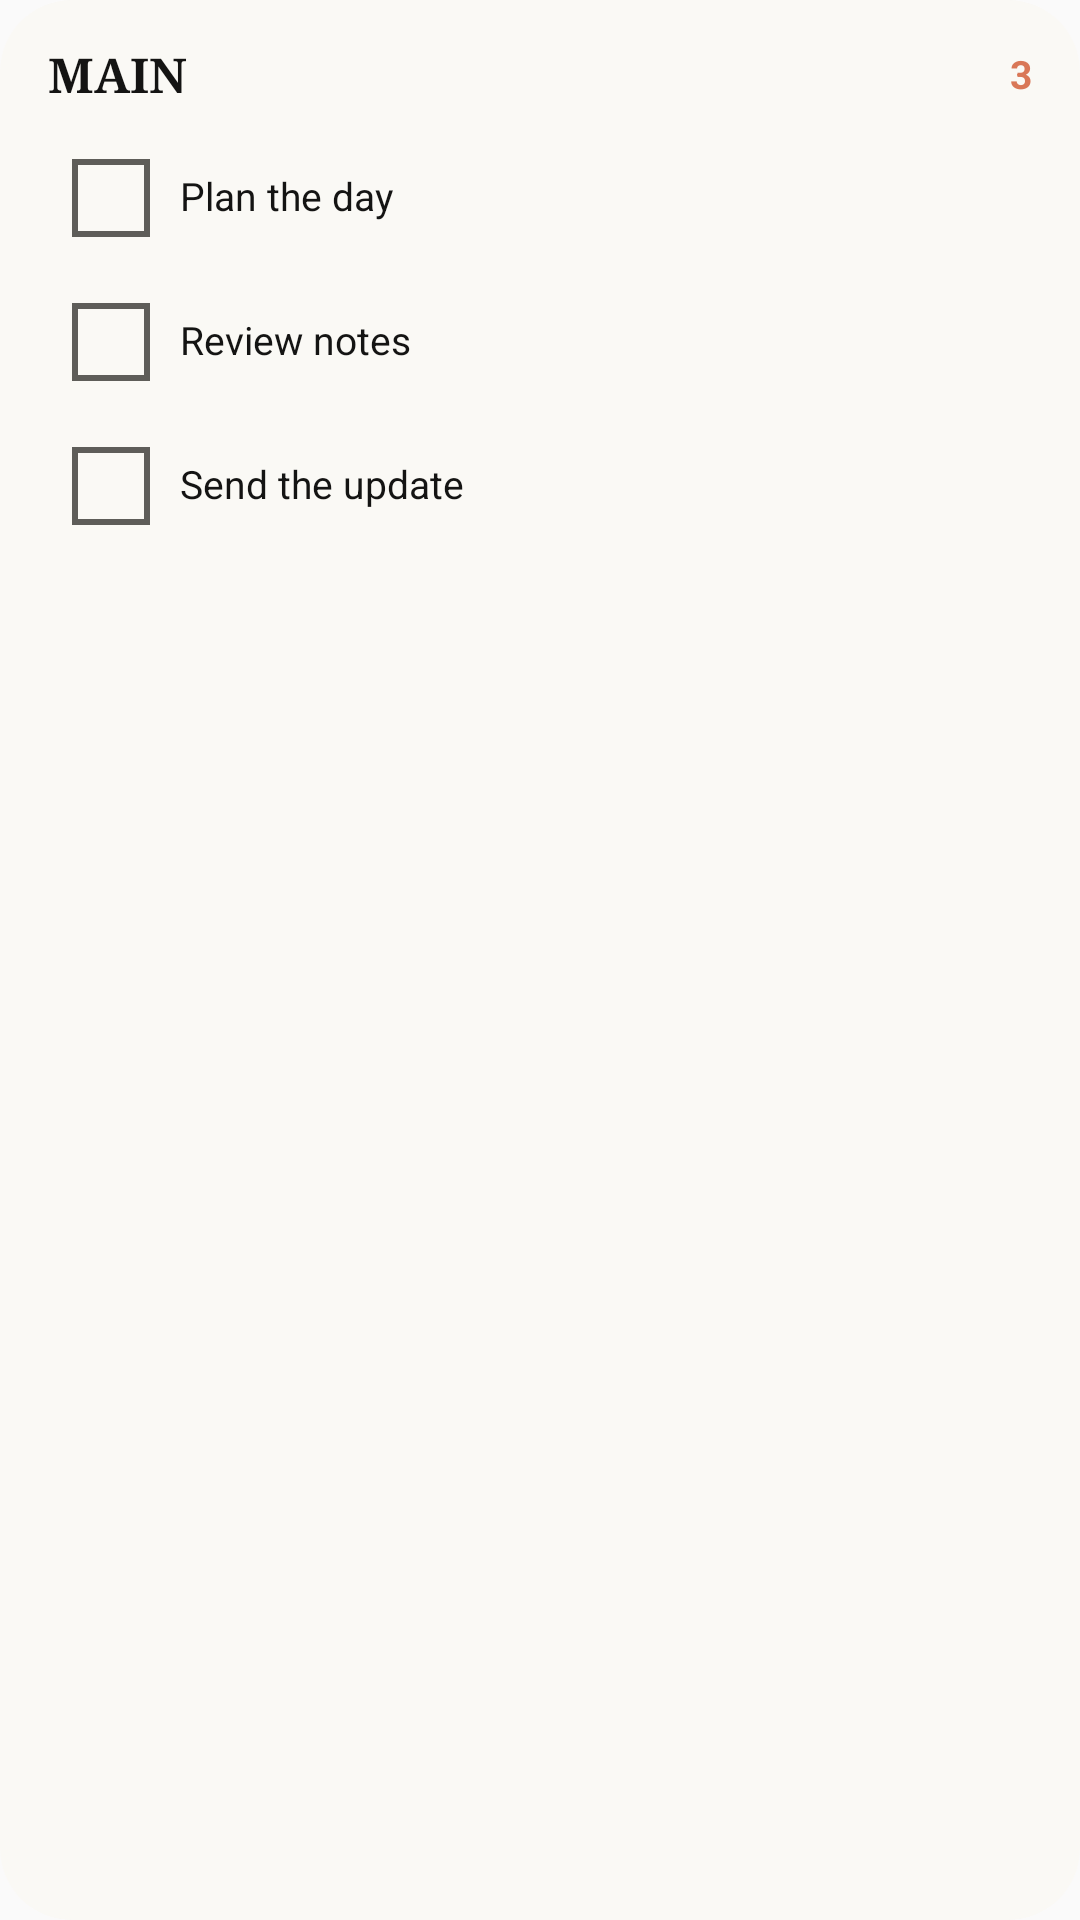

Point at icon controls on the screen. Image size 1080 x 1920, points as point (x, y).
pixeldone widget checkbox: point (111, 198), point (111, 342), point (111, 486)
